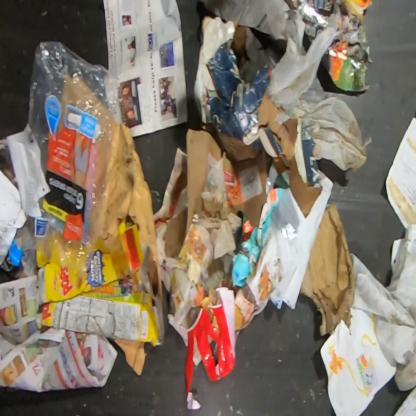cardboard: (162, 15, 322, 258), (36, 220, 161, 376), (231, 25, 280, 82)
rigid_plastic: (185, 287, 236, 396)
soft_plastic: (14, 41, 124, 278), (266, 12, 340, 110), (302, 96, 372, 172)
